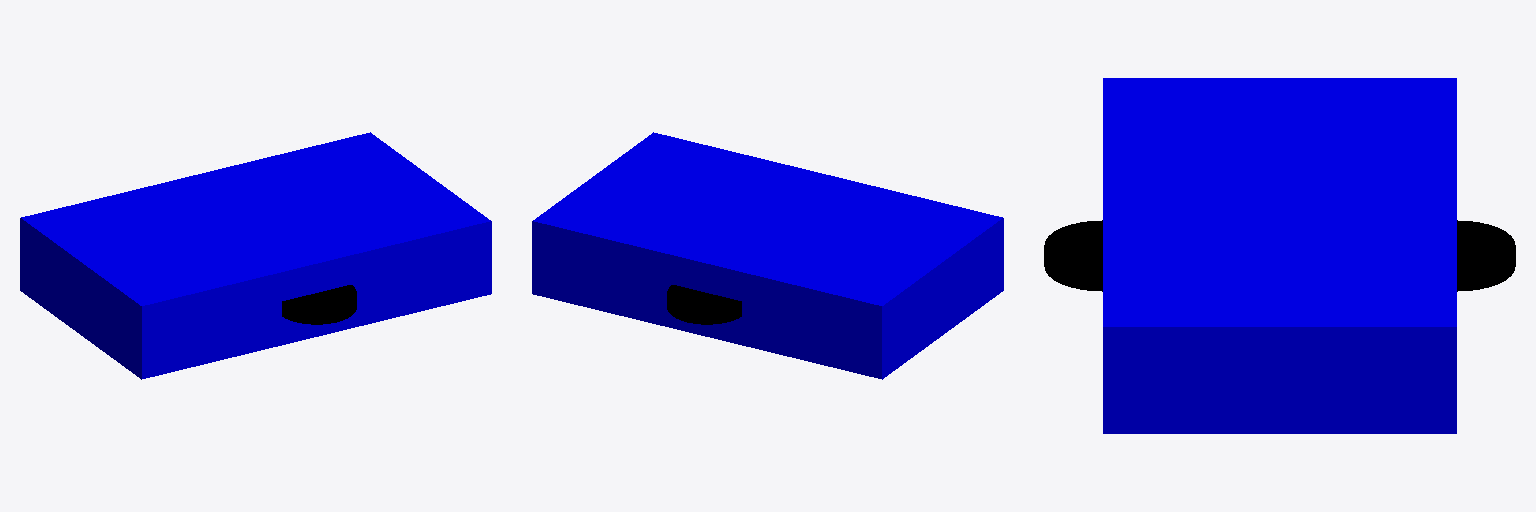
URDF robot description (simple_robot):
<?xml version="1.0"?>
<robot name="simple_robot">
  <link name="base_link">
    <visual>
      <geometry>
        <box size="0.5 0.3 0.1"/>
      </geometry>
      <material name="blue">
        <color rgba="0 0 1 1"/>
      </material>
    </visual>
    <collision>
      <geometry>
        <box size="0.5 0.3 0.1"/>
      </geometry>
    </collision>
    <inertial>
      <mass value="1.0"/>
      <origin xyz="0 0 0" rpy="0 0 0"/>
      <inertia ixx="0.02" ixy="0.0" ixz="0.0" iyy="0.02" iyz="0.0" izz="0.02"/>
    </inertial>
  </link>
  <link name="left_wheel">
    <visual>
      <geometry>
        <cylinder radius="0.05" length="0.02"/>
      </geometry>
      <material name="black">
        <color rgba="0 0 0 1"/>
      </material>
    </visual>
    <collision>
      <geometry>
        <cylinder radius="0.05" length="0.02"/>
      </geometry>
    </collision>
    <inertial>
      <mass value="0.2"/>
      <origin xyz="0 0 0" rpy="0 0 0"/>
      <inertia ixx="0.001" ixy="0.0" ixz="0.0" iyy="0.001" iyz="0.0" izz="0.001"/>
    </inertial>
  </link>
  <link name="right_wheel">
    <visual>
      <geometry>
        <cylinder radius="0.05" length="0.02"/>
      </geometry>
      <material name="black">
        <color rgba="0 0 0 1"/>
      </material>
    </visual>
    <collision>
      <geometry>
        <cylinder radius="0.05" length="0.02"/>
      </geometry>
    </collision>
    <inertial>
      <mass value="0.2"/>
      <origin xyz="0 0 0" rpy="0 0 0"/>
      <inertia ixx="0.001" ixy="0.0" ixz="0.0" iyy="0.001" iyz="0.0" izz="0.001"/>
    </inertial>
  </link>
  <joint name="left_wheel_joint" type="continuous">
    <parent link="base_link"/>
    <child link="left_wheel"/>
    <origin xyz="0 -0.15 0" rpy="0 0 0"/>
    <axis xyz="0 1 0"/>
  </joint>
  <joint name="right_wheel_joint" type="continuous">
    <parent link="base_link"/>
    <child link="right_wheel"/>
    <origin xyz="0 0.15 0" rpy="0 0 0"/>
    <axis xyz="0 1 0"/>
  </joint>
</robot>

--- Render facts (derived) ---
Views: 3 orthographic renders of the robot side by side, from view 1: azimuth 30°, elevation 25°; view 2: azimuth 150°, elevation 25°; view 3: azimuth 270°, elevation 25°.
Model simple_robot with 3 links and 2 joints (2 continuous), rooted at base_link, posed all joints at 0.
Visible links, largest first — view 1: base_link, left_wheel; view 2: base_link, right_wheel; view 3: base_link, left_wheel, right_wheel.
Link boxes in pixels (box(x1,y1,x2,y2)): base_link: box(20, 132, 491, 379); left_wheel: box(282, 285, 356, 324); base_link: box(532, 132, 1003, 379); right_wheel: box(667, 285, 741, 324); base_link: box(1103, 78, 1456, 433); left_wheel: box(1044, 220, 1102, 291); right_wheel: box(1457, 220, 1515, 291).
Bounding box of the posed robot: 0.5 × 0.4 × 0.1 m (x, y, z).
Geometry: primitives only (box / cylinder / sphere), no mesh files.
